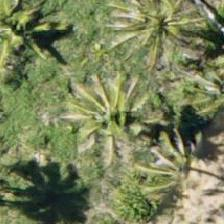coconut_tree: (72, 62, 162, 152), (137, 122, 223, 212), (108, 0, 198, 60), (177, 42, 223, 132), (0, 0, 54, 74)
